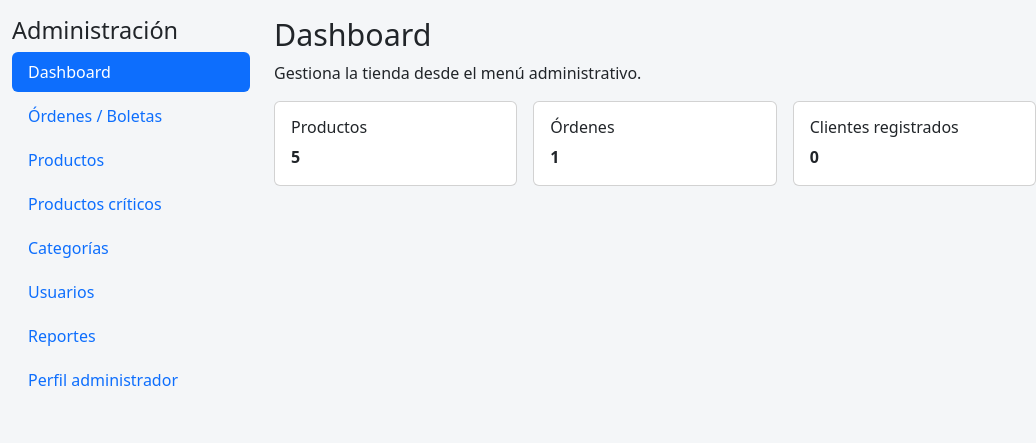
Test case: órdenes persistidas alimentan boletas y reportes sin inventar ventas
This screenshot has width=1036, height=443.
Step 1. Click the button "Órdenes / Boletas" → (131, 116), box [12,96,250,136]
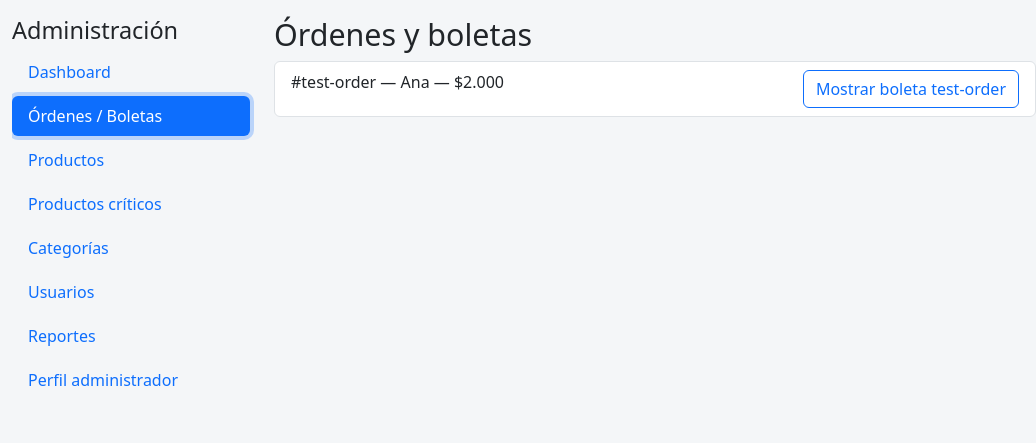
Step 2. Click the button "Mostrar boleta test-order" → (911, 88), box [803,70,1019,108]
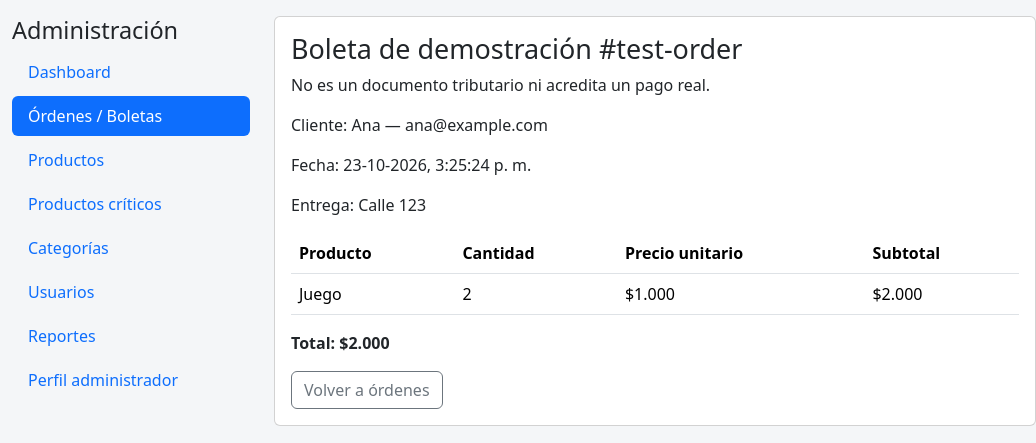
Result: the text "Juego" is shown at [291,274,454,315]
Step 3. Click the button "Volver a órdenes" → (367, 390), box [291,371,443,409]
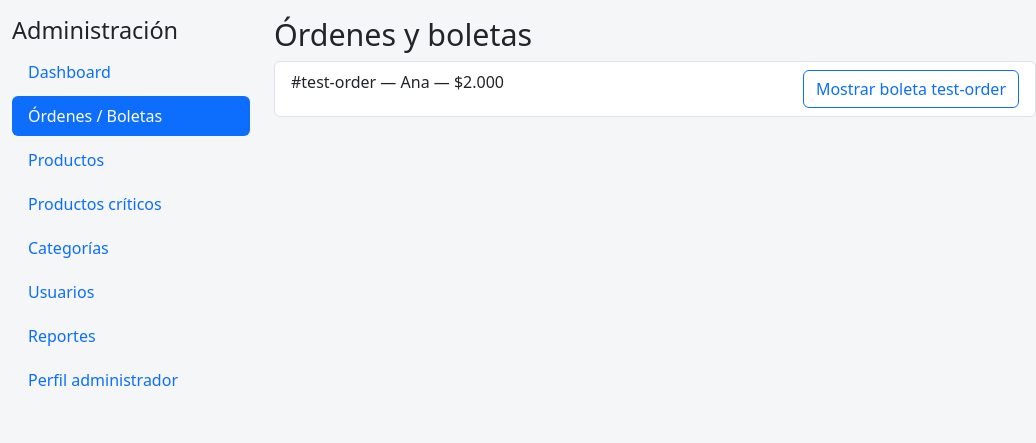
Step 4. Click the button "Reportes" → (131, 336), box [12,316,250,356]
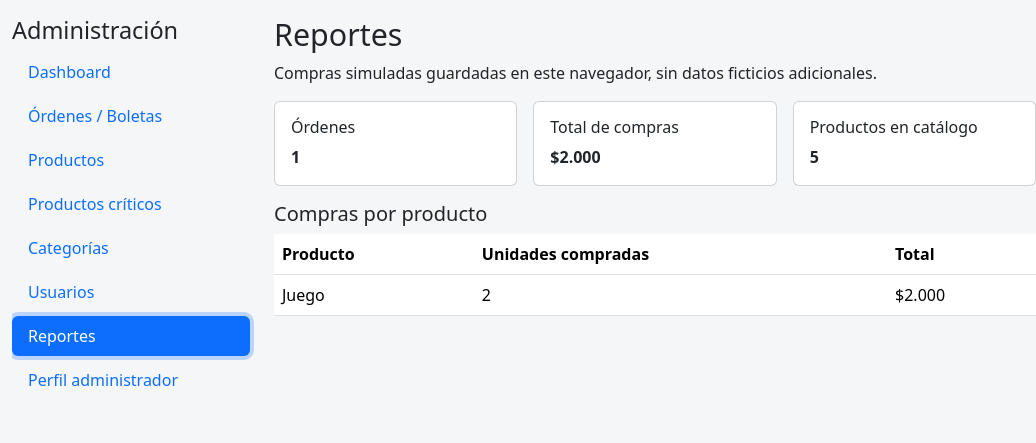
Result: the text "2" is shown at [474,274,887,315]
